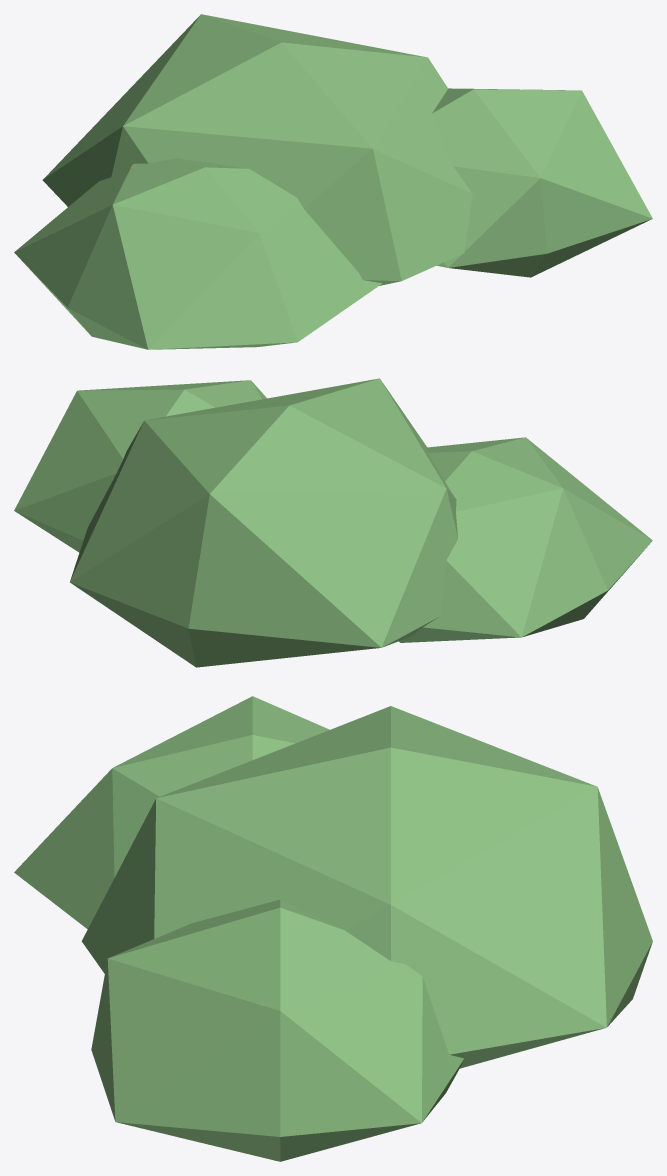
File: bush.gltf
3 renders of one model, top to bottom at view 1: azimuth 30°, elevation 25°; view 2: azimuth 150°, elevation 25°; view 3: azimuth 270°, elevation 25°, orthographic. The views are drawn at different scales.
Parts seen in each view (by area): view 1: blob0, blob2, blob1; view 2: blob0, blob2, blob1; view 3: blob0, blob1, blob2.
Boxes of the visible parts, x1,y1,x2,y2 form: blob0: (42,14,472,285); blob2: (14,158,382,349); blob1: (432,88,652,277); blob0: (70,378,457,667); blob2: (399,437,652,642); blob1: (14,380,266,552); blob0: (81,706,652,1068); blob1: (91,899,464,1161); blob2: (14,696,329,929).
Size of the model in its own units: 1.49 by 0.5106 by 1.16.
